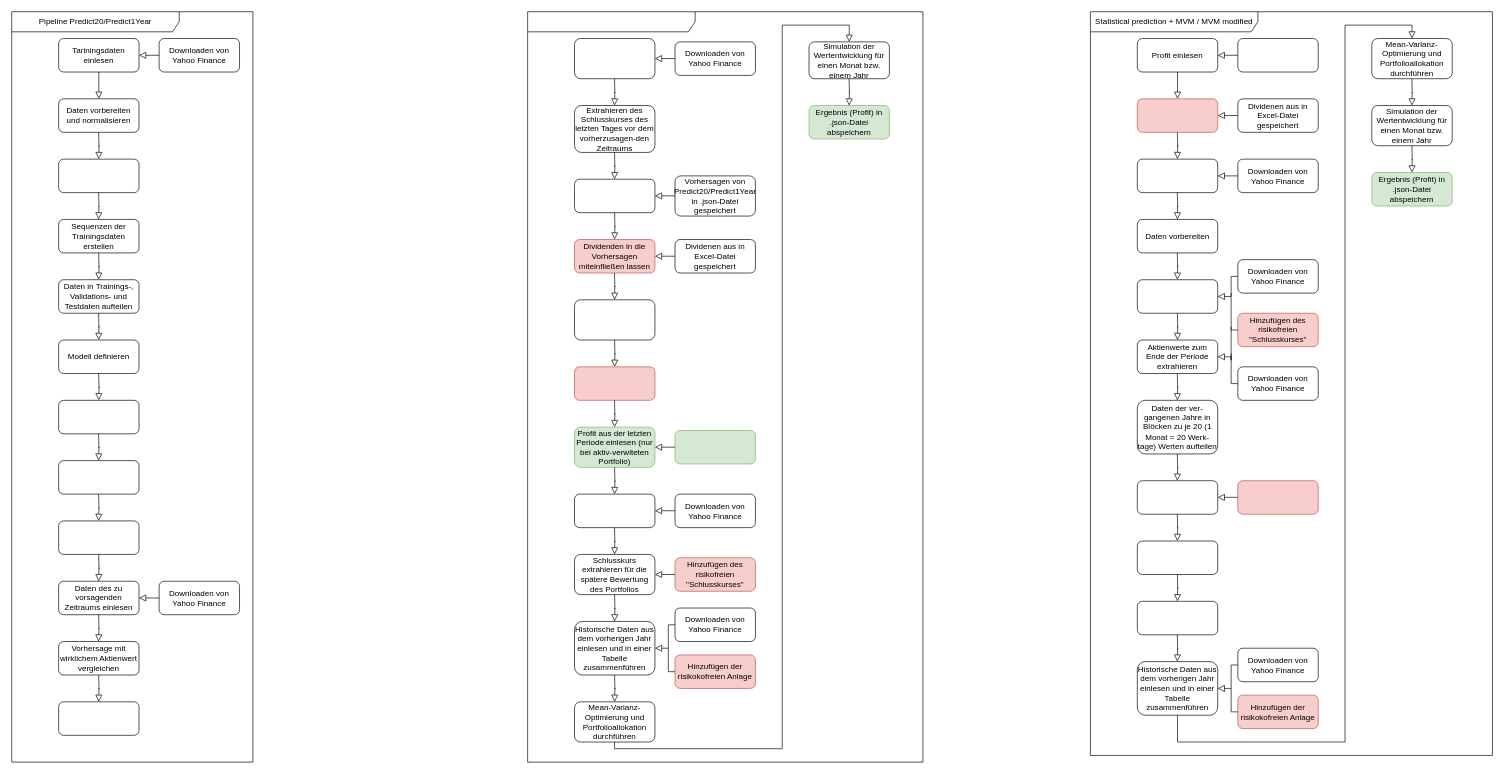
The diagram is 1504 pixels wide and 774 high, and some of its shapes have lost their labels. The shapes that lost their labels are listed below. From the top down, each one's box as (x1, y1, x2, y2) in pixels, then its label:
(574, 38, 655, 79): Einlesen der Daten für den zu Vorhersagenden Zeitraum
(1237, 38, 1318, 72): Profit in .json-Datei gespeichert
(1137, 98, 1218, 132): Dividenden verarbeiten
(58, 158, 139, 193): Eingabedaten für Modell herunterladen
(1137, 158, 1218, 193): Daten der vergangenen Jahre einlesen
(574, 179, 655, 213): Vorhersagen einlesen
(1137, 279, 1218, 313): Aktienwerte zum Beginn der Periode extrahieren
(574, 299, 655, 340): Vorhergesagten Aktienkurs in erwartete Rendite in % konvertieren
(574, 366, 655, 400): Risikofreie Rendite zu Vorhersagen hinzufügen
(527, 11, 923, 762): Pipeline Mean-Variance-Model (MVM) & MVM modified
(58, 400, 139, 434): Modell evaluieren
(674, 430, 755, 464): Profit von der letzten Periode gespeichert in .json-Datei
(58, 460, 139, 494): Modell speichern
(1137, 480, 1218, 514): Rendite pro Monat berechnen
(1237, 480, 1318, 514): Dividenden hinzufügen
(574, 493, 655, 528): Einlesen von der vorherzusagenden Periode
(58, 520, 139, 554): Vorhersage überprüfen
(1137, 540, 1218, 575): Durchschnittsrendite der letzten Jahre errechnen
(1137, 601, 1218, 635): Standardabweichung bestimmen
(58, 701, 139, 735): Ergebnis in .json-Datei abspeichern
